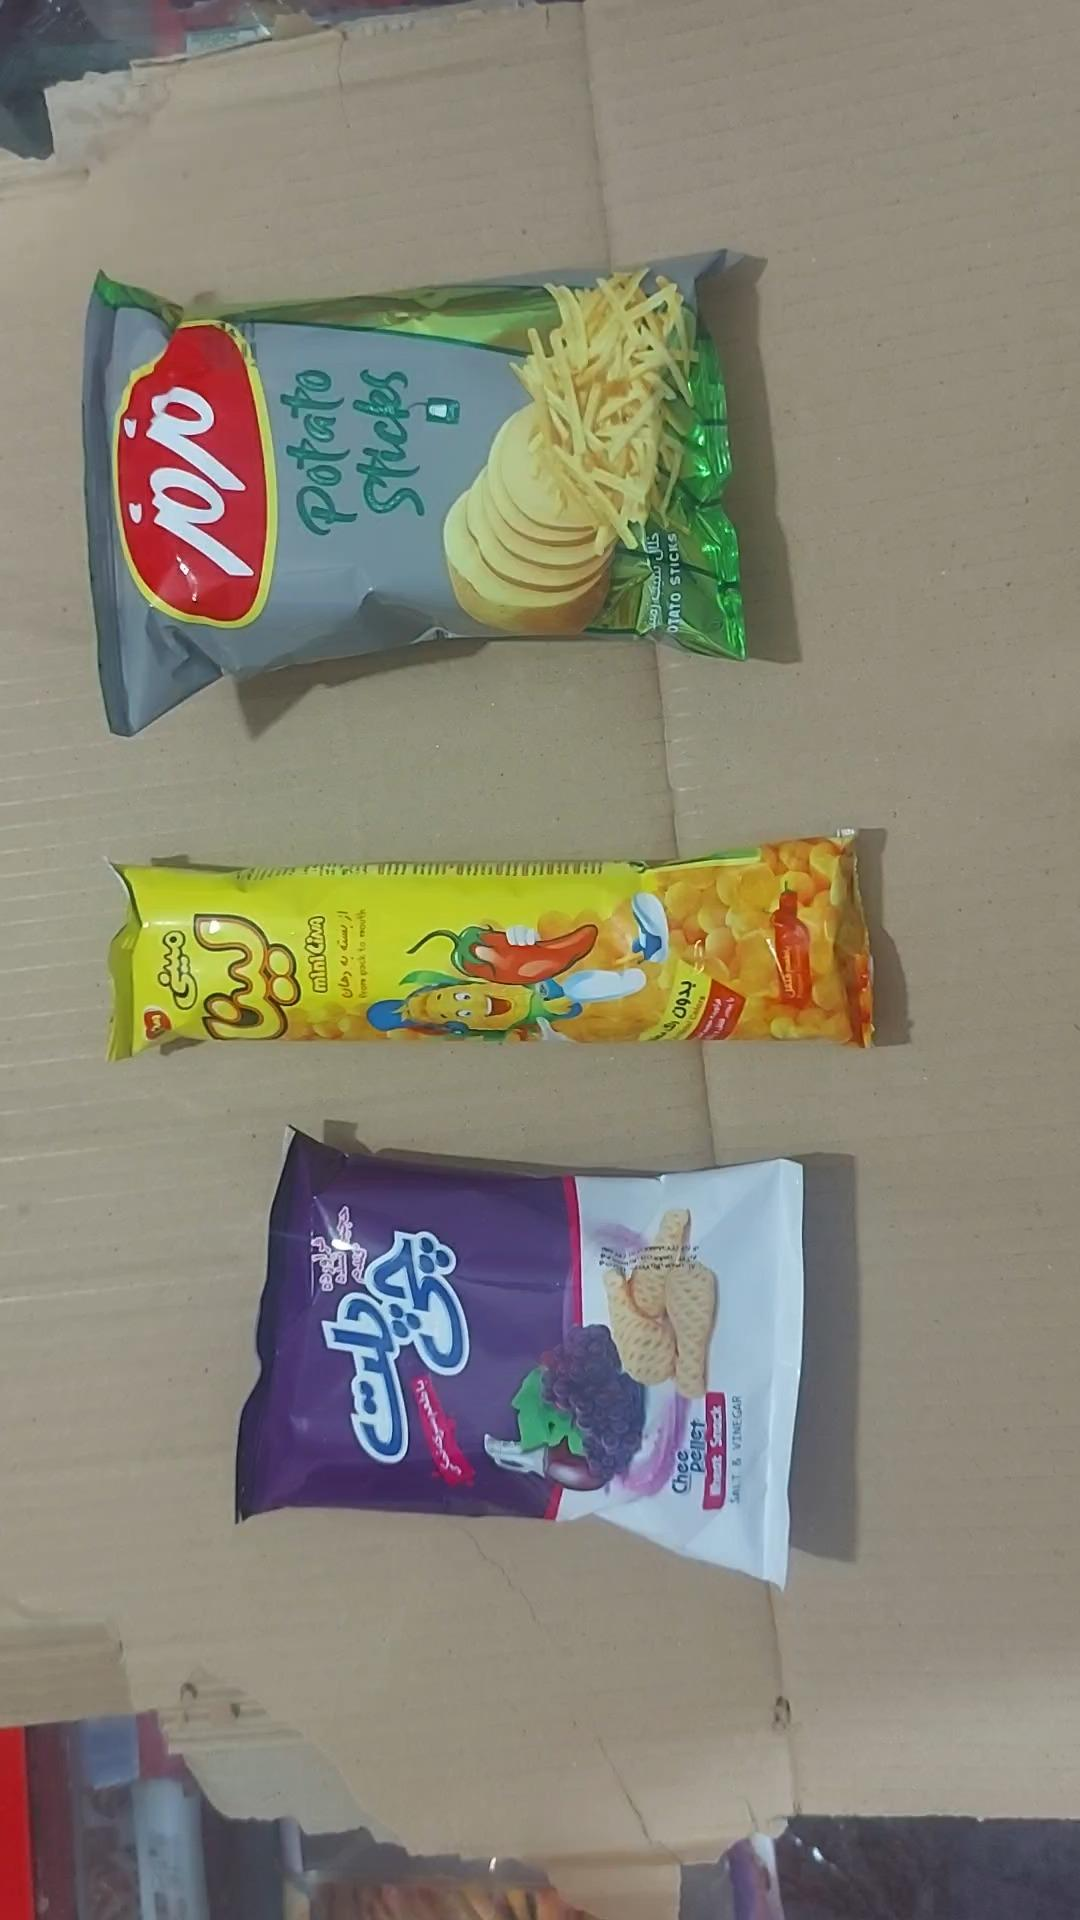Chee pellet vinegar: (235, 1133, 808, 1588)
Maz Maz potato sticks: (82, 255, 746, 736)
Mini Lina: (108, 836, 873, 1059)
